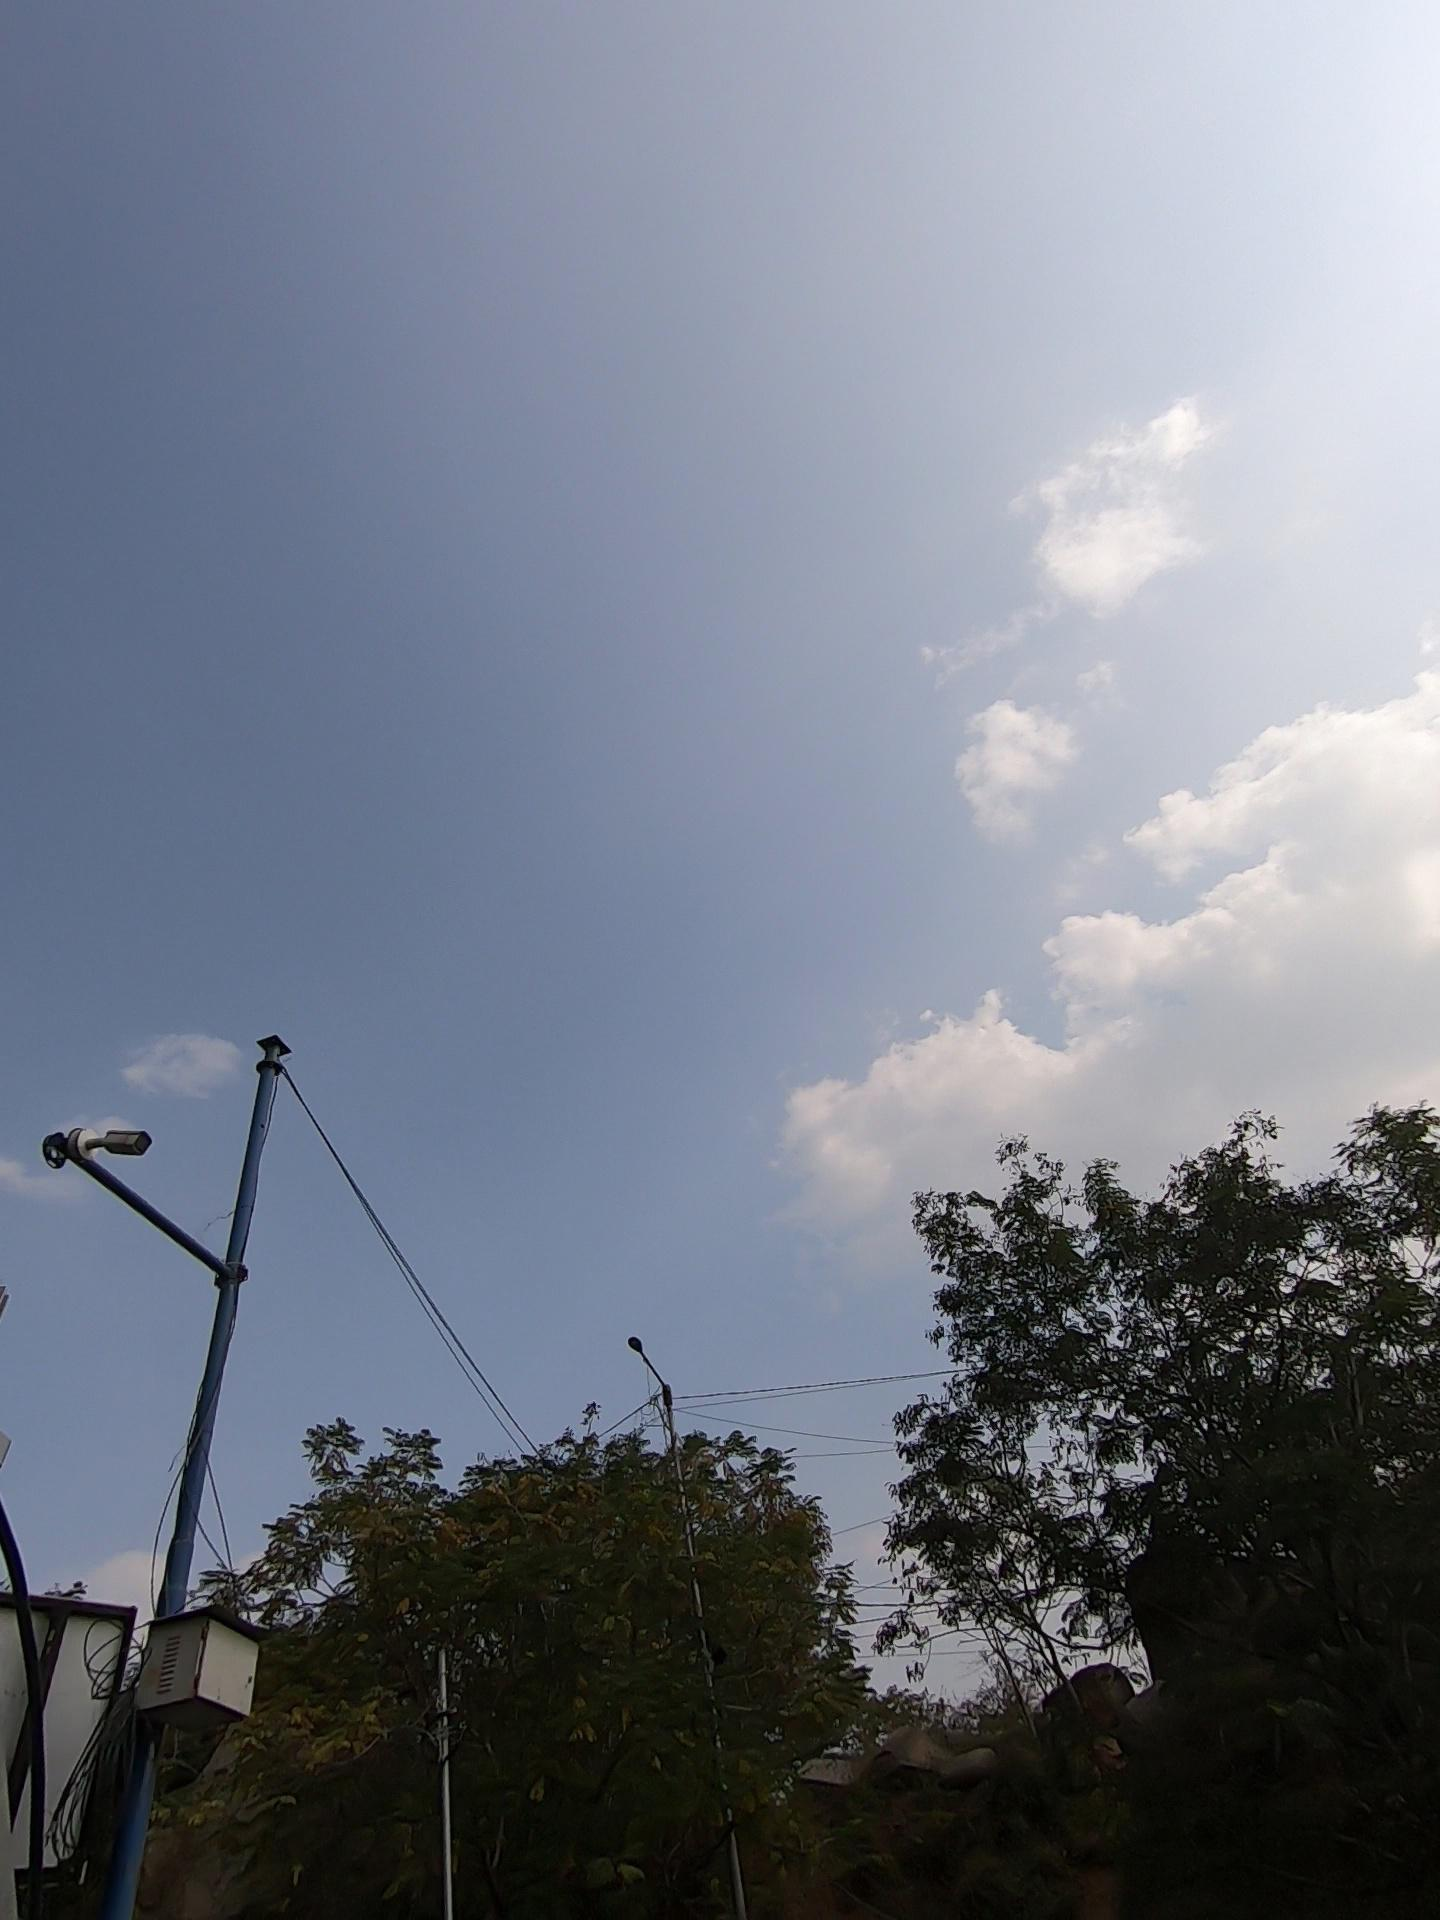off: (95, 1020, 375, 1320)
